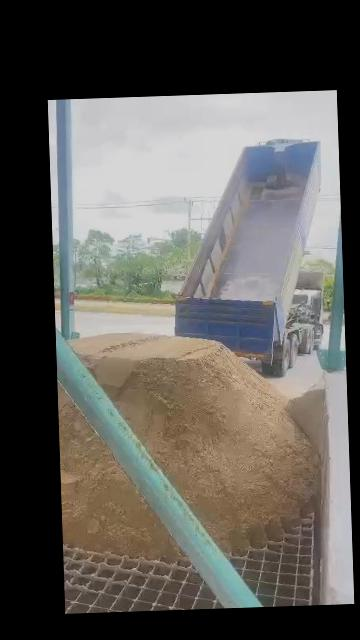sand: (71, 334, 317, 550), (58, 387, 176, 558), (289, 377, 328, 457)
